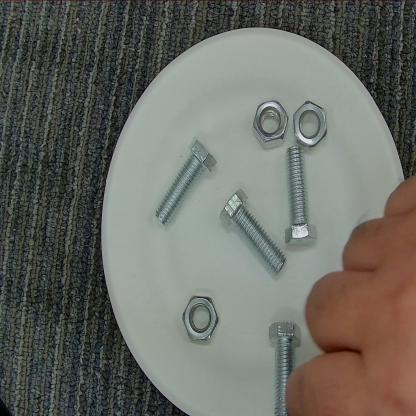FOD: (152, 135, 219, 229), (215, 190, 285, 278), (267, 318, 306, 416), (285, 141, 318, 250), (182, 292, 221, 346), (250, 99, 293, 147), (292, 94, 329, 149)
